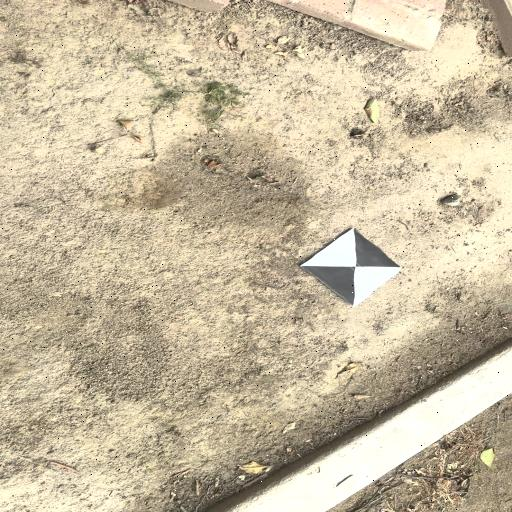target: (302, 229, 403, 305)
